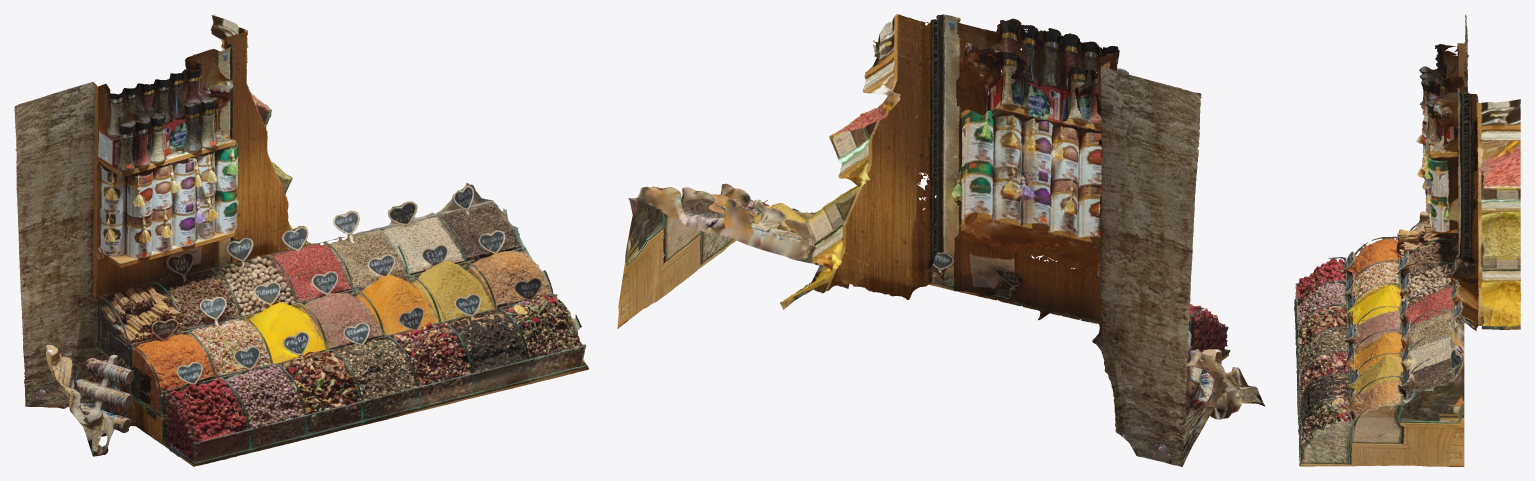
File: istanbul_spice_stand_in_the_egyptian_bazaar.glb
3 renders of one model, left to right at view 1: azimuth 30°, elevation 25°; view 2: azimuth 150°, elevation 25°; view 3: azimuth 270°, elevation 25°, orthographic. The views are drawn at different scales.
Visible parts, largest first — view 1: EgyptianBazzar_Model_3; view 2: EgyptianBazzar_Model_3; view 3: EgyptianBazzar_Model_3.
Part boxes in pixels (left/top/right/bottom): EgyptianBazzar_Model_3: left=14, top=14, right=588, bottom=466; EgyptianBazzar_Model_3: left=617, top=14, right=1265, bottom=466; EgyptianBazzar_Model_3: left=1294, top=15, right=1520, bottom=466.
Bounding box in the file's own units: 1.56 × 0.9999 × 0.7677.
1 material, 1 textured.
